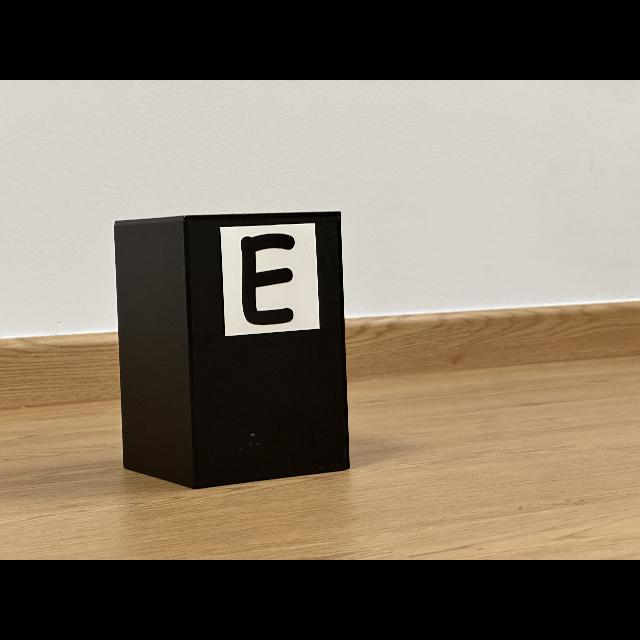E: (241, 234, 295, 325)
